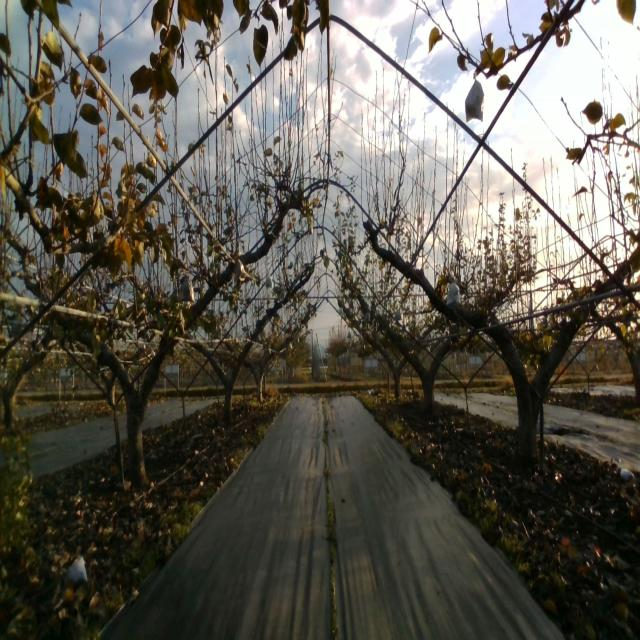pearbags: (465, 73, 484, 121), (176, 274, 196, 304), (446, 281, 462, 305), (232, 258, 246, 283)
